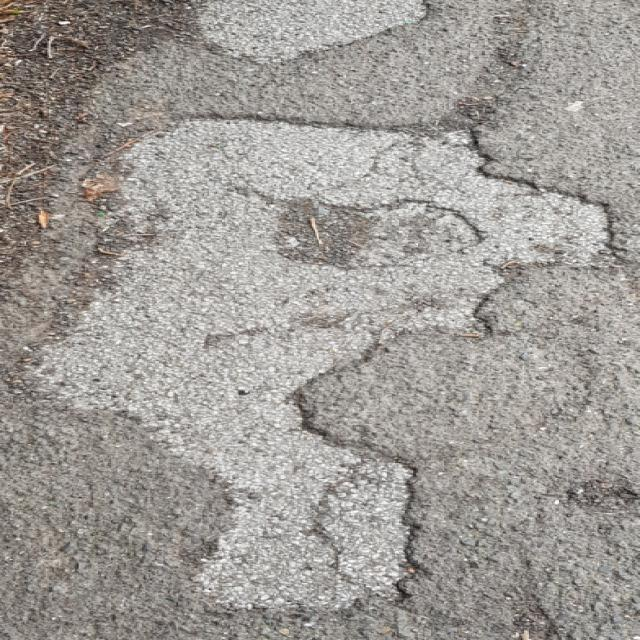pothole: (11, 108, 627, 615), (271, 188, 488, 268), (183, 0, 443, 64)
